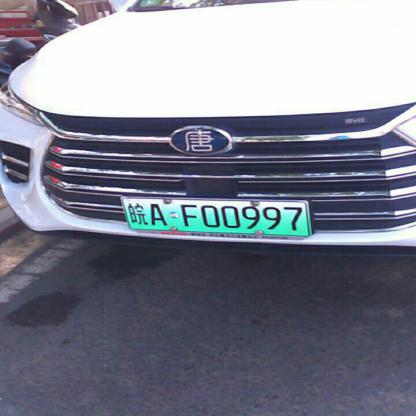lp: (121, 198, 310, 234)
